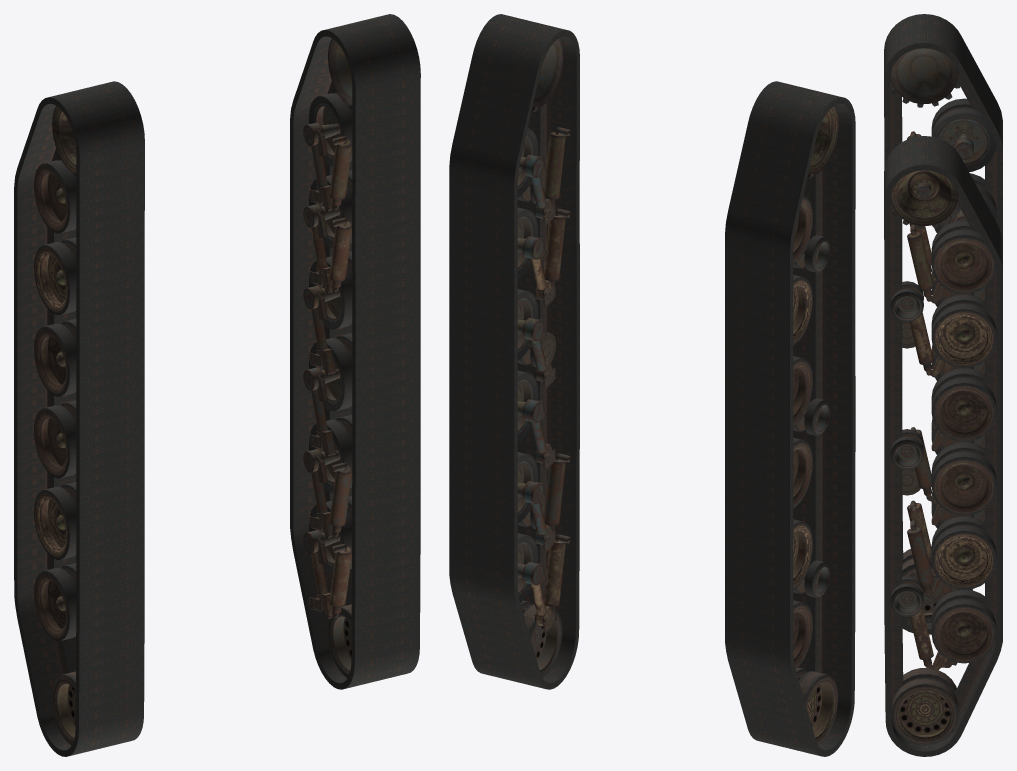
Rendered from Chassis_03.glb.
3 renders of one model, left to right at view 1: azimuth 30°, elevation 25°; view 2: azimuth 150°, elevation 25°; view 3: azimuth 270°, elevation 25°, orthographic. The views are drawn at different scales.
Visible parts, largest first — view 1: set_0_group_0, set_1_group_0, set_3_group_0, set_2_group_0; view 2: set_0_group_0, set_1_group_0, set_3_group_0, set_2_group_0; view 3: set_3_group_0, set_1_group_0, set_2_group_0, set_0_group_0.
Boxes of the visible parts, x1=… form: set_0_group_0: x1=14, y1=81, x2=144, y2=756; set_1_group_0: x1=290, y1=14, x2=420, y2=689; set_3_group_0: x1=303, y1=38, x2=352, y2=677; set_2_group_0: x1=33, y1=106, x2=76, y2=745; set_0_group_0: x1=725, y1=81, x2=855, y2=756; set_1_group_0: x1=449, y1=14, x2=579, y2=689; set_3_group_0: x1=517, y1=38, x2=570, y2=677; set_2_group_0: x1=793, y1=105, x2=838, y2=745; set_3_group_0: x1=890, y1=170, x2=996, y2=745; set_1_group_0: x1=884, y1=136, x2=1002, y2=756; set_2_group_0: x1=890, y1=48, x2=996, y2=623; set_0_group_0: x1=884, y1=14, x2=1002, y2=634.
Bounding box in the file's own units: 3.17 × 5.81 × 1.06.
Materials: 4 (4 with a texture image).
